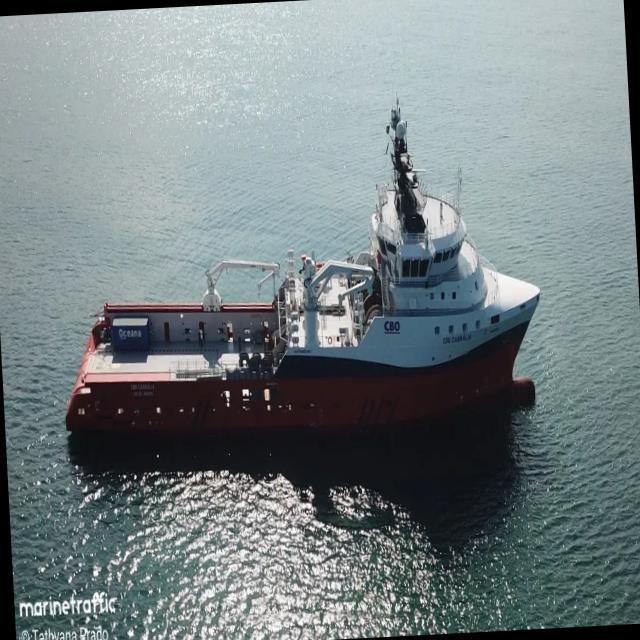Offshore: (66, 98, 539, 435)
